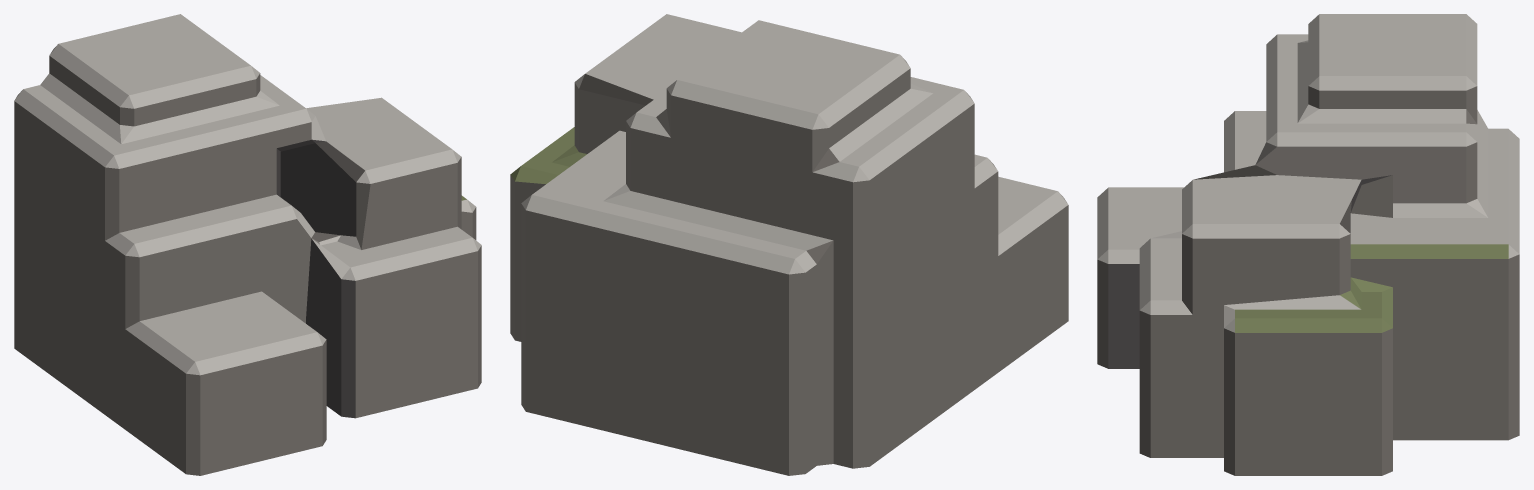
Rendered from rock_stage2_var_2.glb.
The picture shows the model from 3 angles, left to right: view 1: azimuth 30°, elevation 25°; view 2: azimuth 150°, elevation 25°; view 3: azimuth 270°, elevation 25°; orthographic projection. The views are drawn at different scales.
Visible parts, largest first — view 1: destructible_rock_stage_2_var_3_S, destructible_rock_stage_2_var_3_L, destructible_rock_stage_2_var_3_D; view 2: destructible_rock_stage_2_var_3_S, destructible_rock_stage_2_var_3_L, destructible_rock_stage_2_var_3_M; view 3: destructible_rock_stage_2_var_3_S, destructible_rock_stage_2_var_3_L, destructible_rock_stage_2_var_3_M, destructible_rock_stage_2_var_3_D.
Boxes of the visible parts, x1,y1,x2,y2 form: destructible_rock_stage_2_var_3_S: (14, 56, 481, 475); destructible_rock_stage_2_var_3_L: (14, 14, 481, 375); destructible_rock_stage_2_var_3_D: (276, 139, 356, 418); destructible_rock_stage_2_var_3_S: (510, 68, 1068, 475); destructible_rock_stage_2_var_3_L: (521, 14, 1068, 274); destructible_rock_stage_2_var_3_M: (510, 127, 586, 184); destructible_rock_stage_2_var_3_S: (1097, 86, 1519, 475); destructible_rock_stage_2_var_3_L: (1097, 14, 1519, 332); destructible_rock_stage_2_var_3_M: (1235, 244, 1508, 332); destructible_rock_stage_2_var_3_D: (1108, 175, 1391, 368).
Size of the model in its own units: 1.5 by 1.2 by 1.5.
